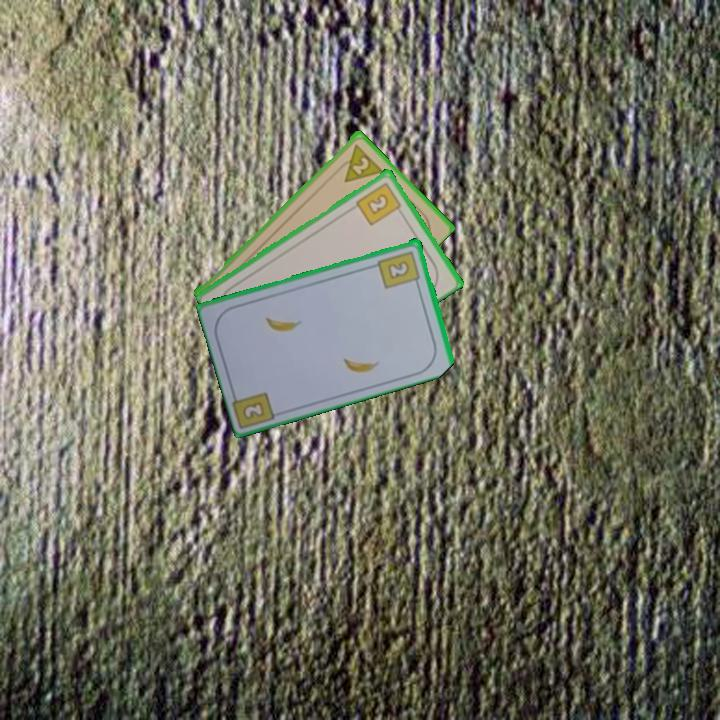2b: (353, 178, 406, 228), (375, 247, 423, 291), (239, 398, 268, 423)
2p: (333, 139, 385, 185)
